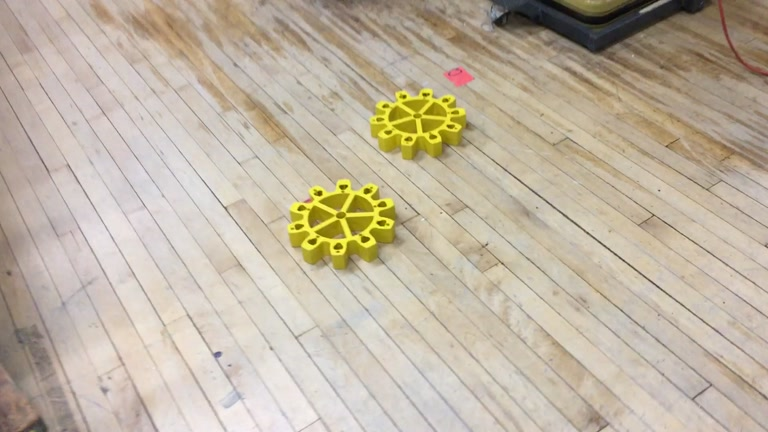gear: (285, 178, 398, 269), (368, 87, 469, 161)
